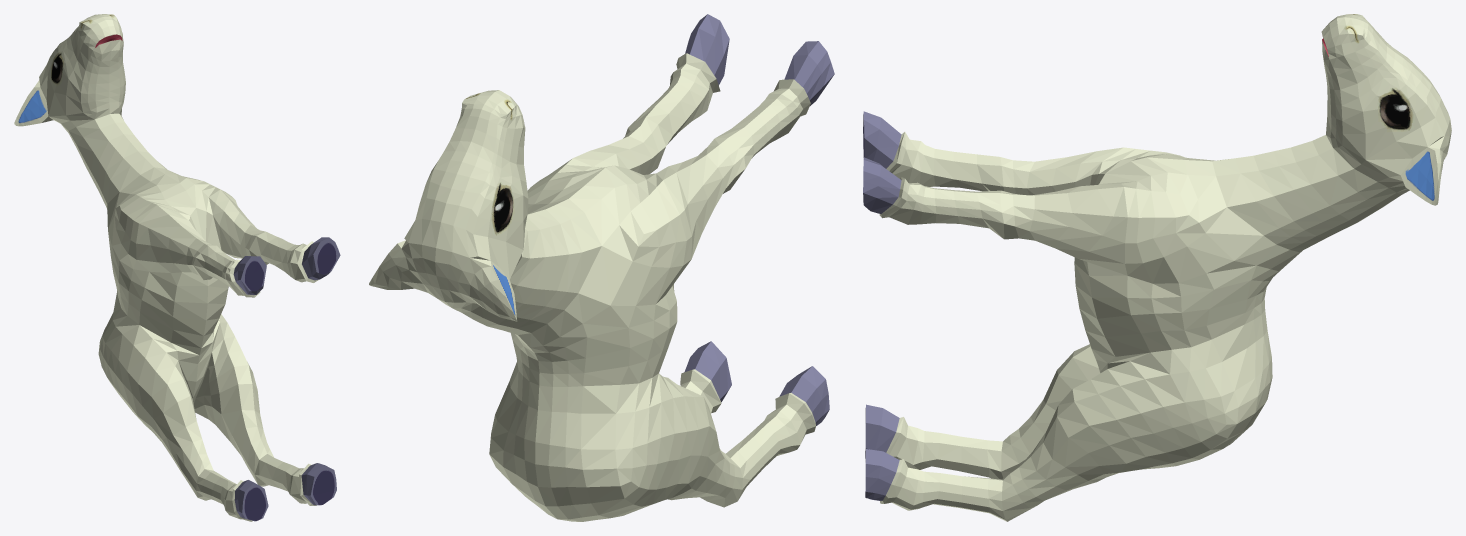
The model's file is BR_Ponyta-Shiny01.obj.
3 views of the same model, side by side, from view 1: azimuth 30°, elevation 25°; view 2: azimuth 150°, elevation 25°; view 3: azimuth 270°, elevation 25° (orthographic). The views are drawn at different scales.
Parts seen in each view (by area): view 1: ponyta; view 2: ponyta; view 3: ponyta.
Part boxes in pixels (box(x1,y1,x2,y2)): ponyta: box(14, 14, 340, 521); ponyta: box(369, 14, 834, 521); ponyta: box(863, 14, 1451, 521).
Bounding box in the file's own units: 2.76 × 9.11 × 9.99.
